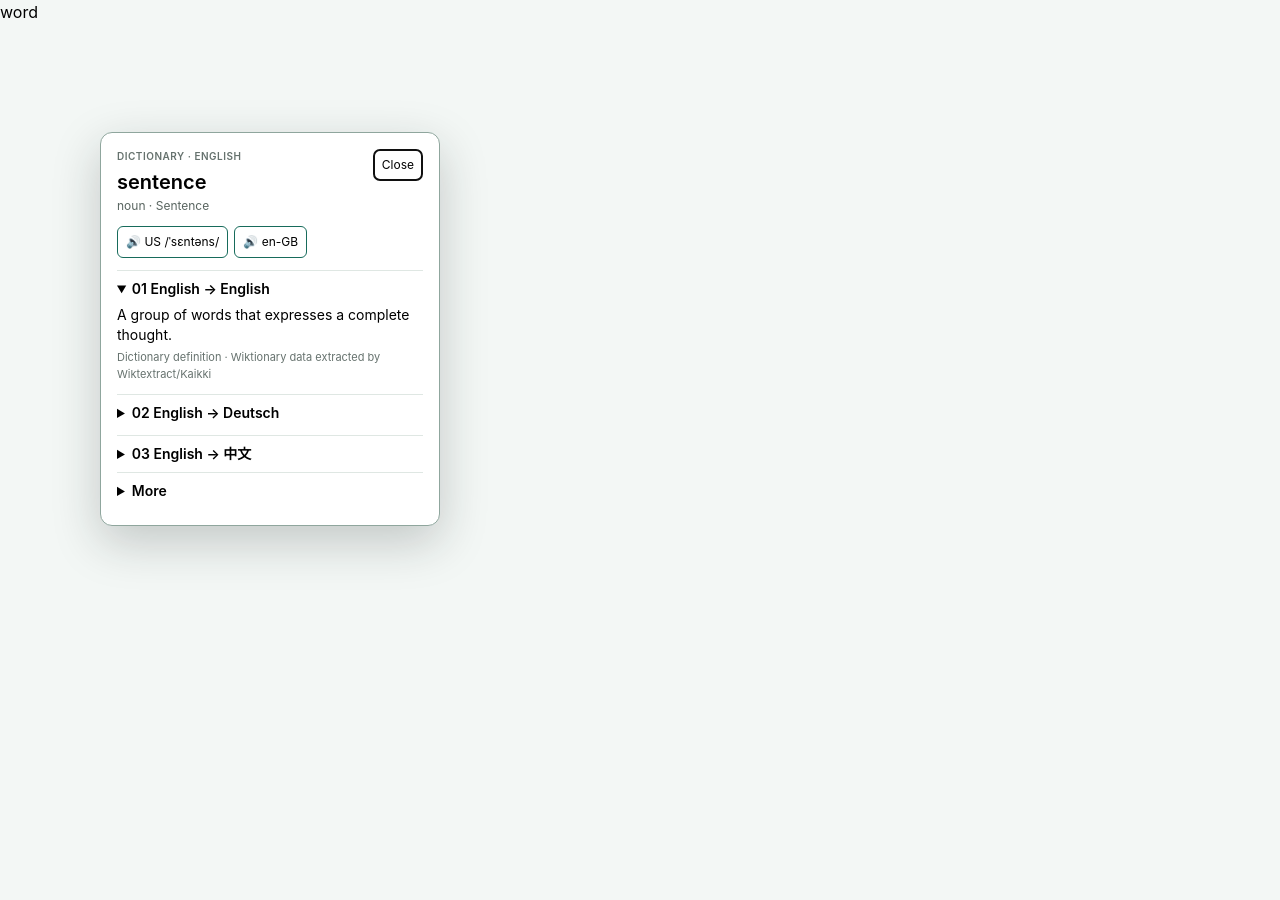
Test case: DictionaryPanel › keeps dictionary details usable when the forms sidecar is unavailable
expect the text "A group of words that expresses a complete thought." is shown: met, box [117, 305, 423, 345]
Click the heading "More". click: (149, 490)
box: [132, 482, 167, 499]
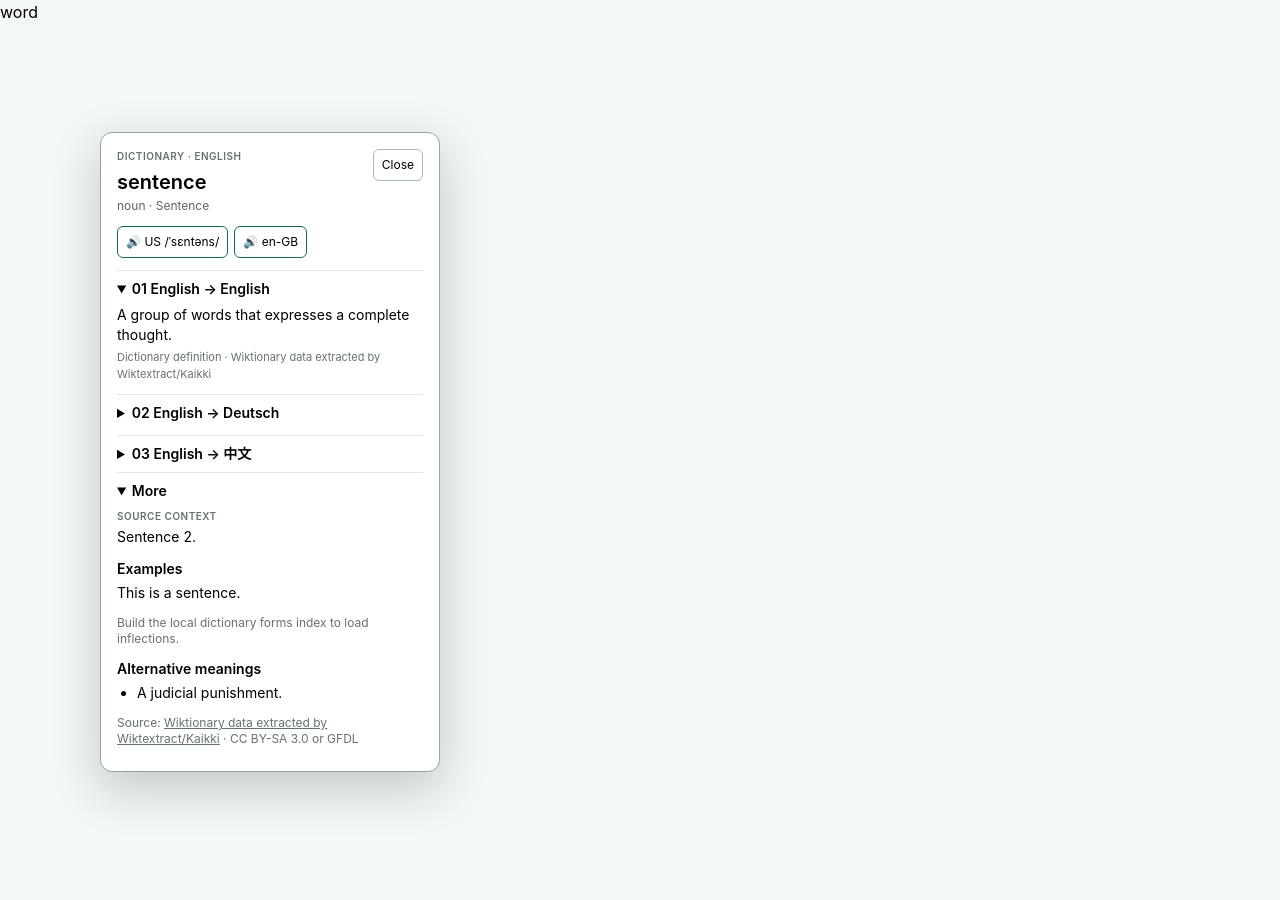
expect the button "🔊 US /ˈsɛntəns/" is enabled: met, box [117, 226, 228, 258]
expect the text "Build the local dictionary forms index to load inflections." is shown: met, box [117, 615, 369, 646]
expect the list item "A judicial punishment." is shown: met, box [137, 684, 282, 701]
